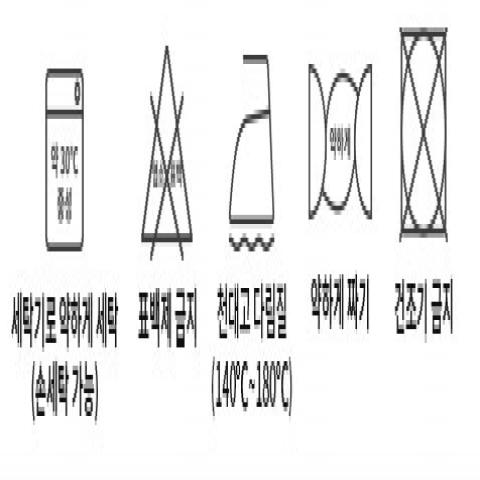30C: (32, 62, 96, 257)
DN_tumble_dry: (389, 21, 471, 249)
iron: (224, 47, 294, 253)
non_chlorine_bleach: (133, 41, 209, 260)
wring: (296, 60, 386, 222)
